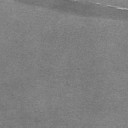finishing roll printing: (13, 0, 128, 21)
